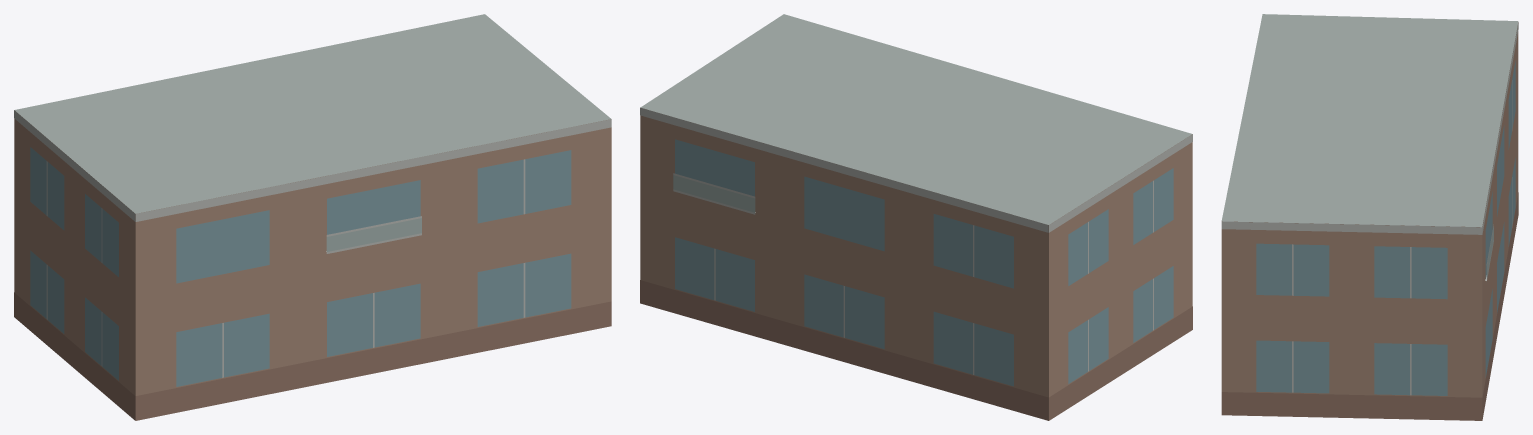
File: survey-upis-32551788.glb
3 views of the same model, side by side, from view 1: azimuth 30°, elevation 25°; view 2: azimuth 150°, elevation 25°; view 3: azimuth 270°, elevation 25° (orthographic). The views are drawn at different scales.
Visible parts, largest first — view 1: survey-upis-32551788.tmp; view 2: survey-upis-32551788.tmp; view 3: survey-upis-32551788.tmp.
Boxes of the visible parts, x1=… form: survey-upis-32551788.tmp: x1=14, y1=14, x2=611, y2=420; survey-upis-32551788.tmp: x1=640, y1=14, x2=1192, y2=420; survey-upis-32551788.tmp: x1=1221, y1=14, x2=1518, y2=420.
Size of the model in its own units: 14.4 by 6.1 by 8.48.
